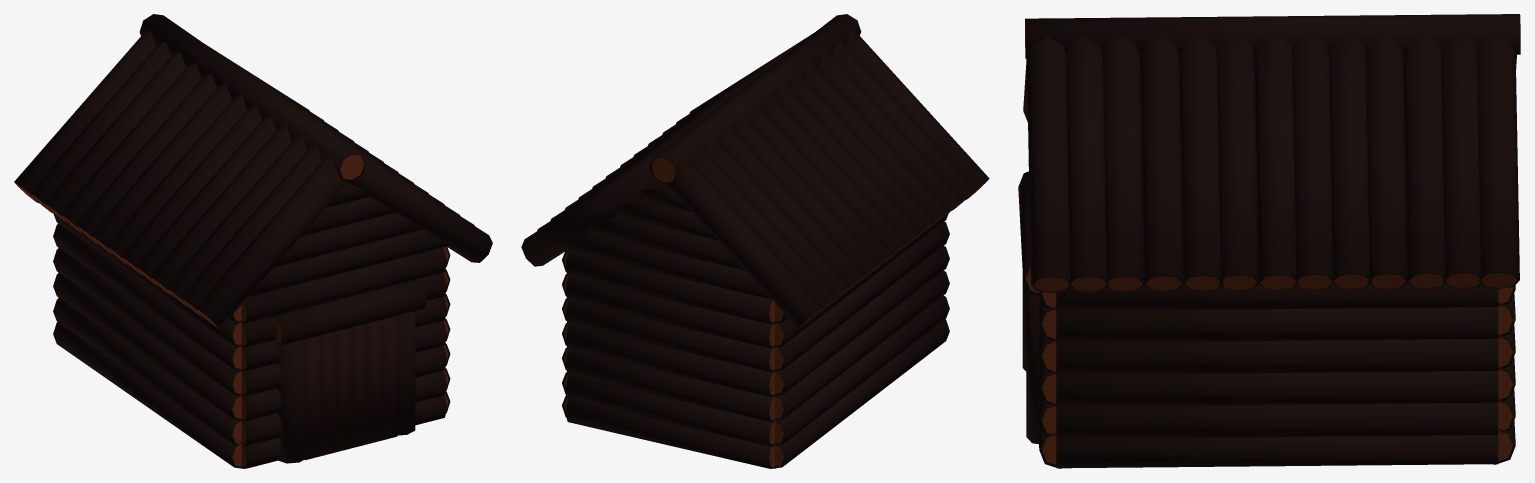
Rendered from house_human.obj.
The picture shows the model from 3 angles, left to right: view 1: azimuth 30°, elevation 25°; view 2: azimuth 150°, elevation 25°; view 3: azimuth 270°, elevation 25°; orthographic projection. The views are drawn at different scales.
Parts seen in each view (by area): view 1: house.008_Cube.033_Wood.080, house.008_Cube.033_Wood.081, house.008_Cube.033_wooddoor2, house.008_Cube.033_WOODDOOR, house.008_Cube.033_Wood.045, house.008_Cube.033_Wood.079, house.008_Cube.033_Wood.004, house.008_Cube.033_Wood.054, house.008_Cube.033_Wood.005, house.008_Cube.033_Wood.006, house.008_Cube.033_Wood.007, house.008_Cube.033_Wood.003 (+25 smaller); view 2: house.008_Cube.033_Wood.078, house.008_Cube.033_Wood.081, house.008_Cube.033_Wood.041, house.008_Cube.033_Wood.044, house.008_Cube.033_Wood.040, house.008_Cube.033_Wood.039, house.008_Cube.033_Wood.043, house.008_Cube.033_Wood.042, house.008_Cube.033_Wood.038, house.008_Cube.033_Wood.086, house.008_Cube.033_Wood.077, house.008_Cube.033_Wood.004 (+20 smaller); view 3: house.008_Cube.033_Wood.015, house.008_Cube.033_Wood.013, house.008_Cube.033_Wood.014, house.008_Cube.033_Wood.012, house.008_Cube.033_Wood.016, house.008_Cube.033_Wood.081, house.008_Cube.033_Wood.079, house.008_Cube.033_Wood.068, house.008_Cube.033_Wood.077, house.008_Cube.033_Wood.075, house.008_Cube.033_Wood.070, house.008_Cube.033_Wood.071 (+10 smaller).
Part boxes in pixels (x1,y1,x2,y2): house.008_Cube.033_Wood.080: (194, 156, 348, 328); house.008_Cube.033_Wood.081: (139, 14, 366, 181); house.008_Cube.033_wooddoor2: (320, 316, 397, 455); house.008_Cube.033_WOODDOOR: (305, 320, 381, 460); house.008_Cube.033_Wood.045: (242, 247, 446, 323); house.008_Cube.033_Wood.079: (348, 156, 492, 262); house.008_Cube.033_Wood.004: (53, 298, 241, 445); house.008_Cube.033_Wood.054: (274, 279, 427, 345); house.008_Cube.033_Wood.005: (53, 273, 241, 420); house.008_Cube.033_Wood.006: (53, 248, 241, 395); house.008_Cube.033_Wood.007: (53, 224, 241, 370); house.008_Cube.033_Wood.003: (53, 322, 244, 468); house.008_Cube.033_Wood.078: (667, 159, 822, 328); house.008_Cube.033_Wood.081: (649, 14, 861, 184); house.008_Cube.033_Wood.041: (565, 325, 774, 396); house.008_Cube.033_Wood.044: (565, 253, 774, 323); house.008_Cube.033_Wood.040: (565, 350, 774, 421); house.008_Cube.033_Wood.039: (565, 375, 774, 446); house.008_Cube.033_Wood.043: (565, 277, 774, 348); house.008_Cube.033_Wood.042: (565, 301, 774, 371); house.008_Cube.033_Wood.038: (565, 399, 775, 468); house.008_Cube.033_Wood.086: (561, 233, 770, 298); house.008_Cube.033_Wood.077: (521, 158, 664, 266); house.008_Cube.033_Wood.004: (775, 295, 949, 445); house.008_Cube.033_Wood.015: (1056, 402, 1498, 438); house.008_Cube.033_Wood.013: (1056, 338, 1498, 374); house.008_Cube.033_Wood.014: (1056, 371, 1498, 406); house.008_Cube.033_Wood.012: (1056, 307, 1498, 342); house.008_Cube.033_Wood.016: (1056, 435, 1498, 468); house.008_Cube.033_Wood.081: (1025, 14, 1520, 59); house.008_Cube.033_Wood.079: (1026, 37, 1070, 293); house.008_Cube.033_Wood.068: (1140, 36, 1183, 292); house.008_Cube.033_Wood.077: (1477, 32, 1519, 288); house.008_Cube.033_Wood.075: (1403, 33, 1446, 289); house.008_Cube.033_Wood.070: (1254, 34, 1298, 291); house.008_Cube.033_Wood.071: (1179, 35, 1223, 291).
Size of the model in its own units: 5.17 by 4.92 by 5.8.
